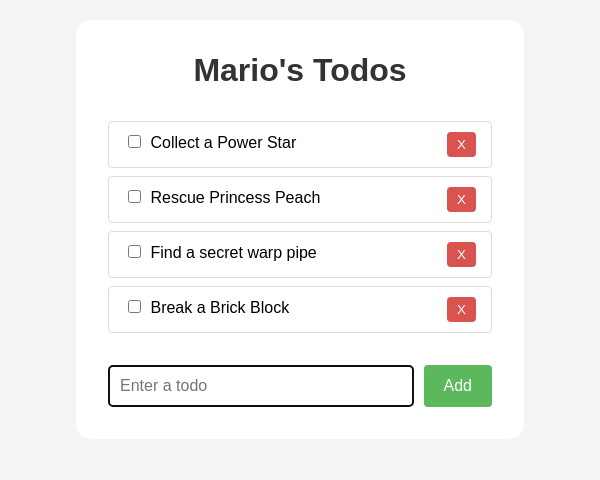
Test: Todo List › Deletes a todo
Click the button "X" next to "Collect a Power Star". click: point(462, 145)
box: [447,132,476,157]
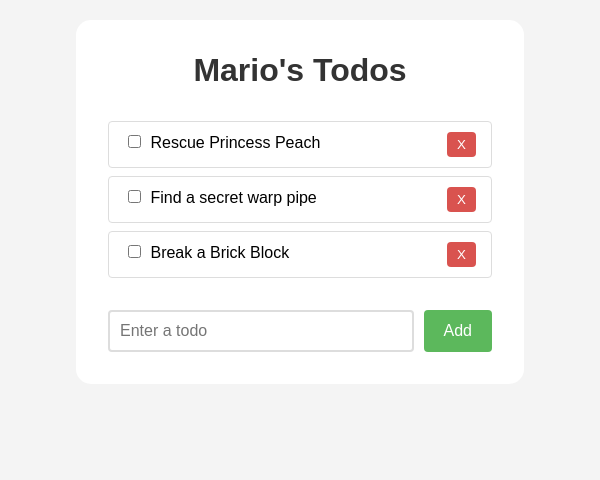
Expected: the text "Princess Peach" is shown, [151,134,321,151]
Now the number of list items is 3, box [108,121,492,168]; [108,176,492,223]; [108,231,492,278]
Now the list item "Collect a Power Star X" is gone
